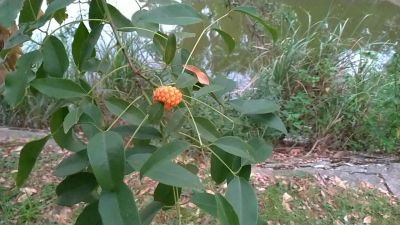eggs: (152, 83, 187, 113)
